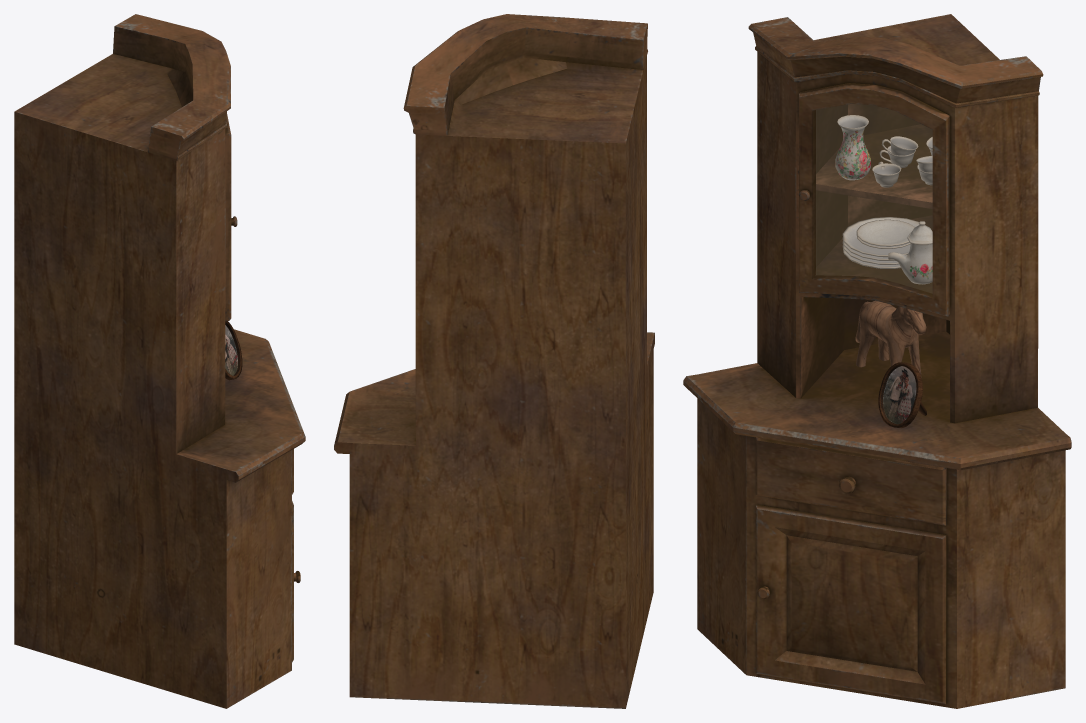
File: old_cabinet.glb
3 views of the same model, side by side, from view 1: azimuth 30°, elevation 25°; view 2: azimuth 150°, elevation 25°; view 3: azimuth 270°, elevation 25° (orthographic). The views are drawn at different scales.
Visible parts, largest first — view 1: cabinet, cabinetSTUFF_lowpoly; view 2: cabinet; view 3: cabinet, cabinetSTUFF_lowpoly.
Part boxes in pixels (x1=…): cabinet: x1=14, y1=14, x2=305, y2=708; cabinetSTUFF_lowpoly: x1=225, y1=321, x2=242, y2=380; cabinet: x1=334, y1=14, x2=654, y2=708; cabinet: x1=683, y1=14, x2=1071, y2=708; cabinetSTUFF_lowpoly: x1=835, y1=115, x2=932, y2=427.
Size of the model in its own units: 1.11 by 2.37 by 1.35.
2 materials, 2 textured.
